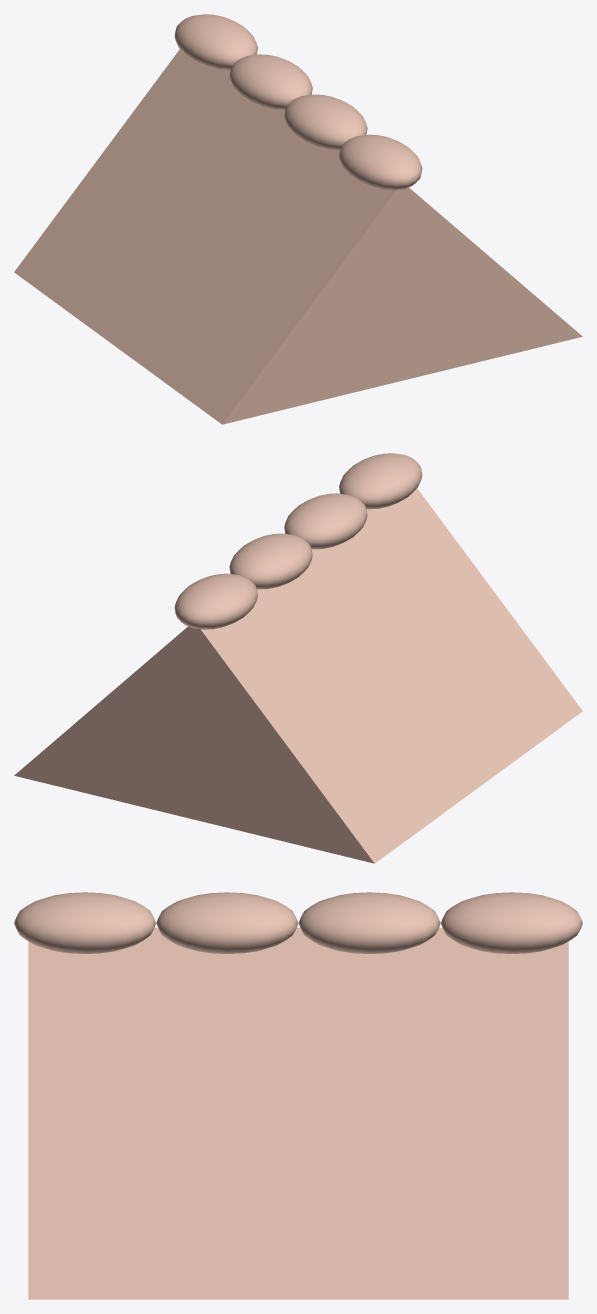
The model's file is roof-copper.glb.
3 views of the same model, one above another, from view 1: azimuth 30°, elevation 25°; view 2: azimuth 150°, elevation 25°; view 3: azimuth 270°, elevation 25° (orthographic). The views are drawn at different scales.
Visible parts, largest first — view 1: gable, ridge_tile (×4); view 2: gable, ridge_tile (×4); view 3: gable, ridge_tile (×4).
Part boxes in pixels (box(x1,y1,x2,y2)): gable: box(14, 49, 582, 424); ridge_tile (×4): box(174, 14, 422, 190); gable: box(14, 488, 582, 863); ridge_tile (×4): box(174, 453, 422, 629); gable: box(28, 927, 568, 1299); ridge_tile (×4): box(14, 892, 582, 953).
Bounding box in the file's own units: 1.14 × 0.665 × 1.2.
